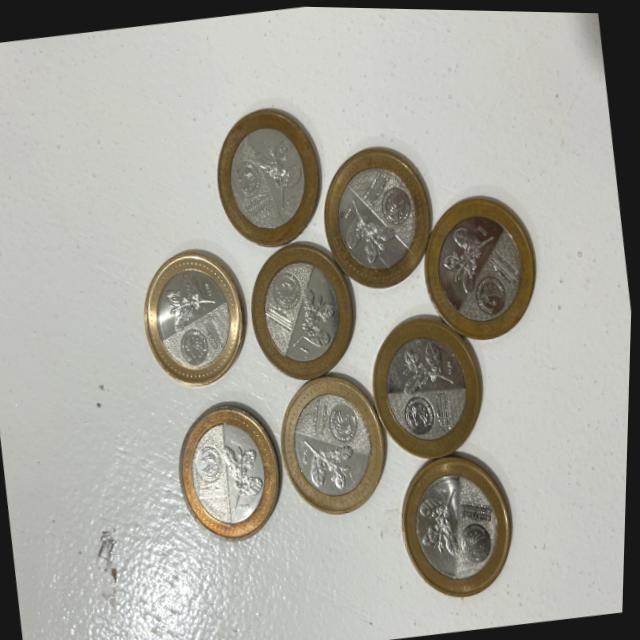20_New_Back: (432, 210, 511, 300), (216, 423, 276, 520), (410, 471, 475, 560), (293, 430, 371, 497)
